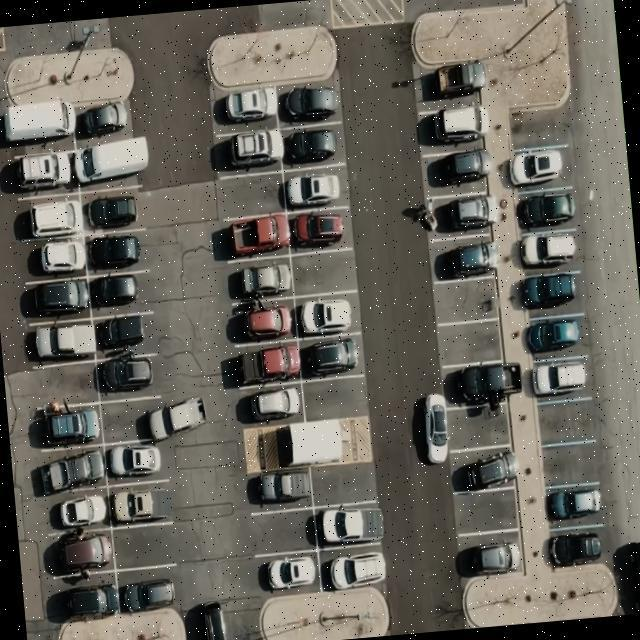space-empty: (28, 358, 100, 410), (99, 394, 172, 444), (212, 170, 284, 220), (532, 396, 602, 446), (433, 274, 499, 326), (248, 507, 316, 556), (436, 318, 504, 367), (288, 248, 356, 296), (300, 374, 366, 423), (113, 522, 182, 568), (453, 488, 520, 535), (308, 459, 372, 506), (539, 440, 603, 487), (510, 100, 570, 150), (450, 404, 510, 448)
space-occupied: (5, 141, 78, 199), (72, 134, 148, 188), (242, 419, 318, 472), (420, 144, 492, 198), (424, 190, 496, 243), (26, 314, 96, 368), (233, 378, 304, 431), (416, 100, 491, 150), (427, 233, 498, 285), (34, 398, 103, 451), (221, 255, 294, 305), (107, 476, 177, 528), (314, 498, 382, 551), (210, 128, 282, 178), (216, 211, 288, 261), (230, 338, 302, 388), (220, 297, 297, 343), (15, 191, 84, 242), (21, 276, 91, 326), (440, 358, 510, 408), (78, 185, 146, 236), (208, 84, 276, 135), (294, 288, 361, 338), (44, 484, 112, 533), (456, 530, 524, 579), (516, 267, 584, 316), (48, 528, 117, 576), (526, 353, 593, 402), (252, 548, 323, 594), (116, 565, 180, 616), (506, 142, 574, 190), (84, 228, 152, 276), (72, 92, 136, 143), (96, 350, 160, 401), (281, 164, 347, 213), (3, 105, 73, 151), (450, 446, 517, 494), (298, 332, 363, 381), (276, 79, 341, 128), (40, 443, 104, 492), (52, 574, 120, 620), (318, 543, 384, 590), (512, 186, 578, 233), (414, 61, 482, 106), (22, 235, 87, 282), (542, 480, 604, 529), (524, 312, 590, 358), (248, 464, 312, 511), (521, 227, 582, 276), (104, 439, 167, 486), (88, 270, 152, 316), (282, 123, 344, 170), (92, 313, 153, 358), (290, 210, 350, 250), (546, 527, 604, 568)
